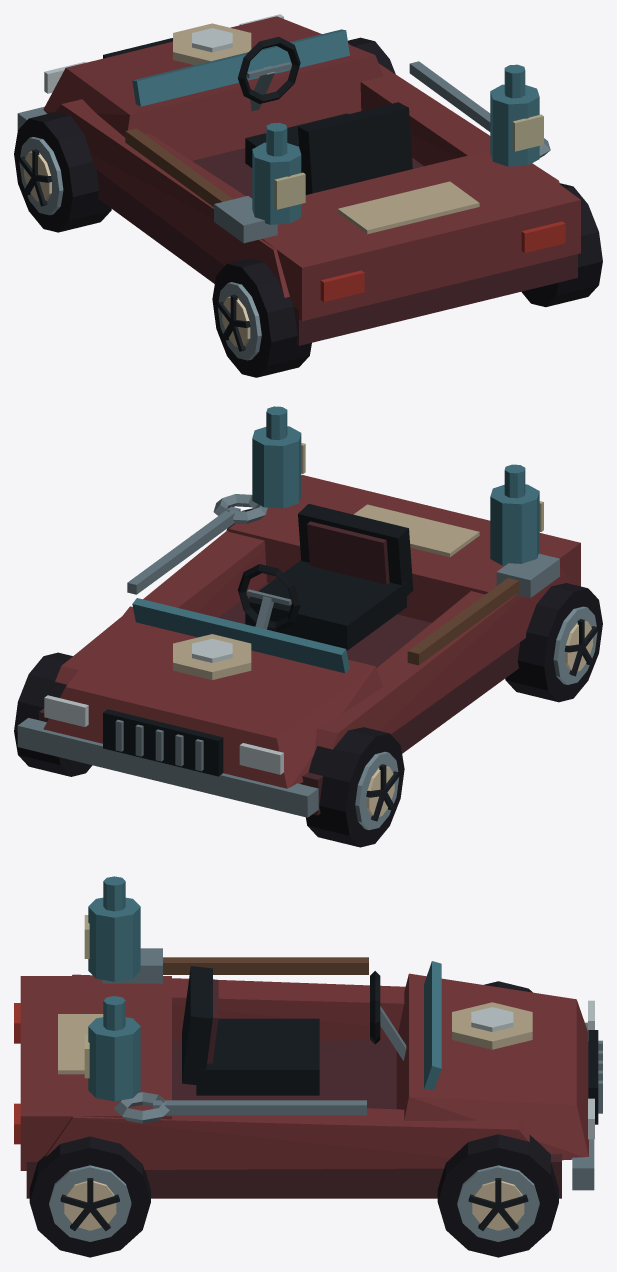
The model's file is kart.glb.
The picture shows the model from 3 angles, top to bottom: view 1: azimuth 30°, elevation 25°; view 2: azimuth 150°, elevation 25°; view 3: azimuth 270°, elevation 25°; orthographic projection. The views are drawn at different scales.
Parts seen in each view (by area): view 1: identity-sedan-sedan-road-car-body, identity-sedan-driver-cockpit, identity-sedan-motif-bottles, wheel-front-left, wheel-rear-left, identity-sedan-motif-tools, wheel-rear-right, identity-sedan-motif-badge, wheel-front-right; view 2: identity-sedan-sedan-road-car-body, identity-sedan-driver-cockpit, wheel-front-left, identity-sedan-motif-bottles, wheel-rear-left, identity-sedan-motif-tools, wheel-front-right, identity-sedan-motif-badge; view 3: identity-sedan-sedan-road-car-body, identity-sedan-driver-cockpit, wheel-front-right, wheel-rear-right, identity-sedan-motif-bottles, identity-sedan-motif-tools, identity-sedan-motif-badge.
Part boxes in pixels (x1,y1,x2,y2): identity-sedan-sedan-road-car-body: (17,14,580,345); identity-sedan-driver-cockpit: (238,36,412,194); identity-sedan-motif-bottles: (252,64,543,224); wheel-front-left: (14,112,111,232); wheel-rear-left: (212,258,311,377); identity-sedan-motif-tools: (125,61,550,243); wheel-rear-right: (521,183,602,307); identity-sedan-motif-badge: (173,23,251,65); wheel-front-right: (348,37,395,73); identity-sedan-sedan-road-car-body: (17,475,580,817); identity-sedan-driver-cockpit: (238,504,413,650); wheel-front-left: (306,727,404,847); identity-sedan-motif-bottles: (252,406,543,565); wheel-rear-left: (505,583,602,702); identity-sedan-motif-tools: (127,494,559,665); wheel-front-right: (14,652,92,776); identity-sedan-motif-badge: (173,634,251,679); identity-sedan-sedan-road-car-body: (14,961,602,1198); identity-sedan-driver-cockpit: (182,966,406,1095); wheel-front-right: (437,1134,558,1257); wheel-rear-right: (29,1136,150,1257); identity-sedan-motif-bottles: (84,876,140,1101); identity-sedan-motif-tools: (102,948,368,1123); identity-sedan-motif-badge: (452,1002,532,1049).
Bounding box in the file's own units: 2.07 × 1.27 × 2.92.
